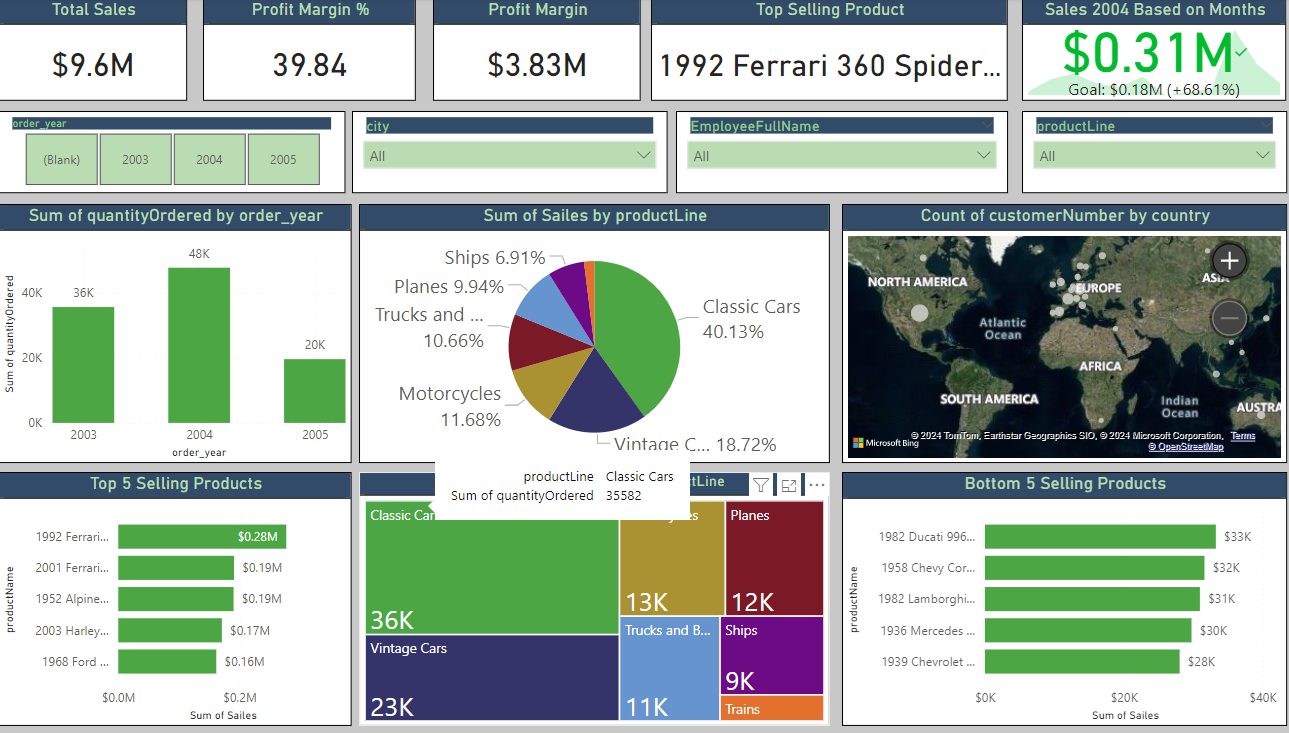

What the dashboard file says about the page in this screenshot:
{"tool":"powerbi","page":{"name":"Page 1","canvas":[1280,720],"ordinal":0},"visuals":[{"type":"card","title":"Profit Margin","fields":{"Values":["Customer.total_profit"]},"box":[420.2,1,190.6,99.2],"z":0},{"type":"barChart","title":"Top 5 Selling Products","fields":{"Y":["Order_details.Sailes"],"Category":["Products.productName"]},"box":[14.6,461,344.3,247.1],"z":2000},{"type":"pieChart","fields":{"Category":["Products.productLine"],"Y":["Order_details.Sailes"]},"box":[365.7,200.4,458.1,251.9],"z":3000},{"type":"slicer","fields":{"Values":["Orders.order_year"]},"box":[14.6,109.9,199.4,79.8],"z":4000},{"type":"kpi","title":"Sales 2004 Based on Months","fields":{"Indicator":["Orders.sales_2004"],"Goal":["Orders.sales_2003"],"TrendLine":["Orders.Month Name"]},"box":[1010.8,0,257.2,99.7],"z":5000},{"type":"map","fields":{"Category":["Customer.country"],"Size":["Customer.customerNumber"]},"box":[835.5,200.4,432.8,251.9],"z":6000},{"type":"treemap","fields":{"Group":["Product_line.productLine"],"Values":["Order_details.quantityOrdered"]},"box":[365.7,461,458.1,247.1],"z":7000},{"type":"clusteredColumnChart","fields":{"Category":["Orders.order_year"],"Y":["Order_details.quantityOrdered"]},"box":[14.6,200.4,344.3,251.9],"z":8000},{"type":"card","title":"Profit Margin %","fields":{"Values":["classic_models_dataset.profit_margin_%"]},"box":[206.2,1,208.1,99.2],"z":9000},{"type":"card","title":"Total Sales","fields":{"Values":["Order_details.Sailes"]},"box":[15,0,184.4,99.7],"z":10000},{"type":"slicer","fields":{"Values":["Office.city"]},"box":[220.8,109.9,193.6,79.8],"z":11000},{"type":"slicer","fields":{"Values":["Employee.EmployeeFullName"]},"box":[420.2,109.9,190.6,79.8],"z":12000},{"type":"slicer","fields":{"Values":["Product_line.productLine"]},"box":[1010.6,109.9,257.8,79.8],"z":13000},{"type":"barChart","title":"Bottom 5 Selling Products","fields":{"Y":["Order_details.Sailes"],"Category":["Products.productName"]},"box":[835.5,461,432.8,247.1],"z":14000},{"type":"qnaVisual","title":"Ask a question about your data","box":[620.5,1,386.1,188.7],"z":15000}]}

Visuals, with their boxes in screenshot pixels (x1, y1, x2, y2), scaled from the page's 1280x720 canvas onto the 1289x733 screenshot:
"Profit Margin" card: <bbox>423, 1, 615, 102</bbox>
"Top 5 Selling Products" barChart: <bbox>15, 469, 361, 721</bbox>
pieChart - Products.productLine x Order_details.Sailes: <bbox>368, 204, 830, 460</bbox>
slicer - Orders.order_year: <bbox>15, 112, 216, 193</bbox>
"Sales 2004 Based on Months" kpi: <bbox>1018, 0, 1277, 102</bbox>
map - Customer.country x Customer.customerNumber: <bbox>841, 204, 1277, 460</bbox>
treemap - Product_line.productLine x Order_details.quantityOrdered: <bbox>368, 469, 830, 721</bbox>
clusteredColumnChart - Orders.order_year x Order_details.quantityOrdered: <bbox>15, 204, 361, 460</bbox>
"Profit Margin %" card: <bbox>208, 1, 417, 102</bbox>
"Total Sales" card: <bbox>15, 0, 201, 102</bbox>
slicer - Office.city: <bbox>222, 112, 417, 193</bbox>
slicer - Employee.EmployeeFullName: <bbox>423, 112, 615, 193</bbox>
slicer - Product_line.productLine: <bbox>1018, 112, 1277, 193</bbox>
"Bottom 5 Selling Products" barChart: <bbox>841, 469, 1277, 721</bbox>
"Ask a question about your data" qnaVisual: <bbox>625, 1, 1014, 193</bbox>
